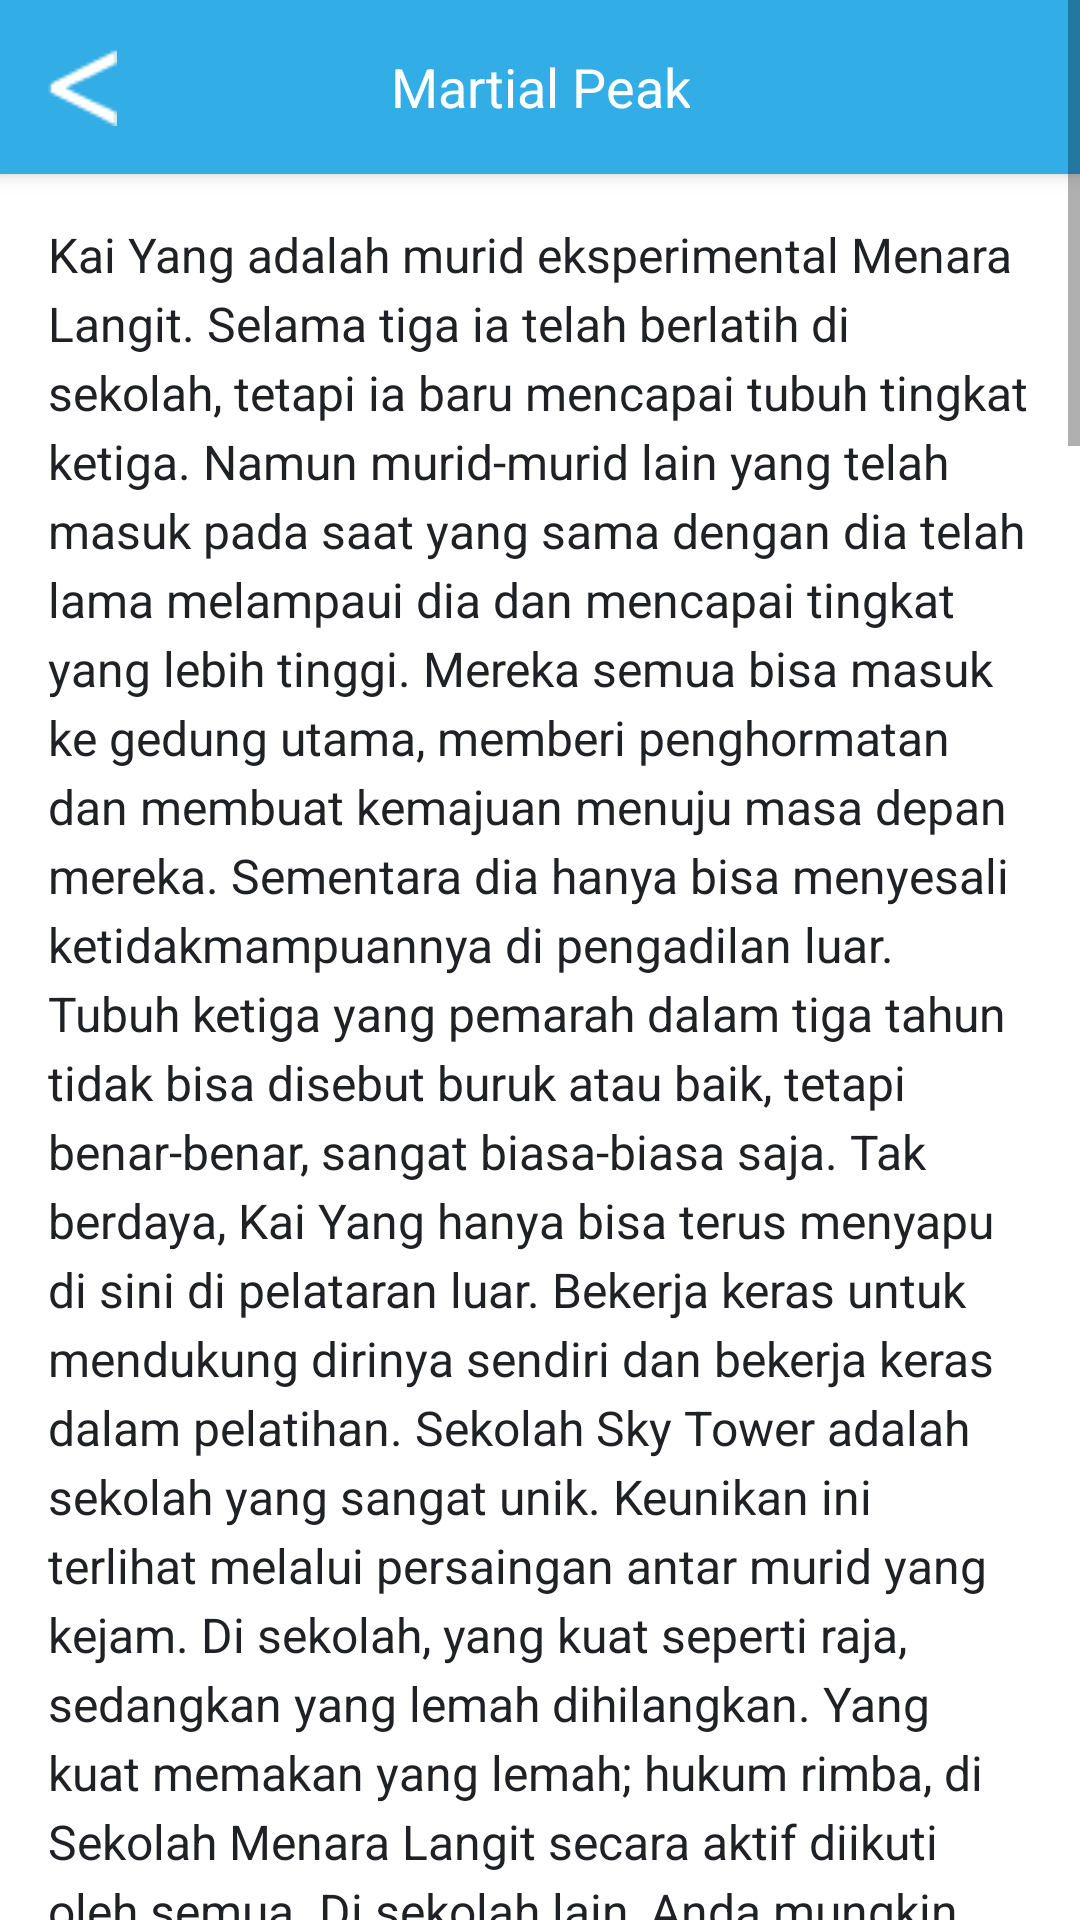

Icons on this 1080 × 1920 Android screen, each with the point to tap as [x,y]:
back: [82,88]
